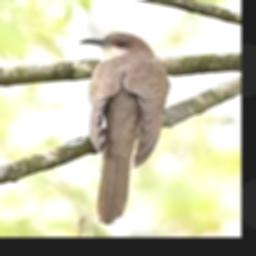Cuckoo: (80, 32, 169, 224)
